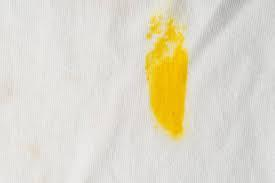lipstick: (139, 18, 194, 136)
